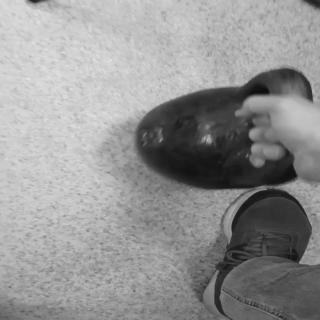kettlebell: (138, 69, 320, 189)
